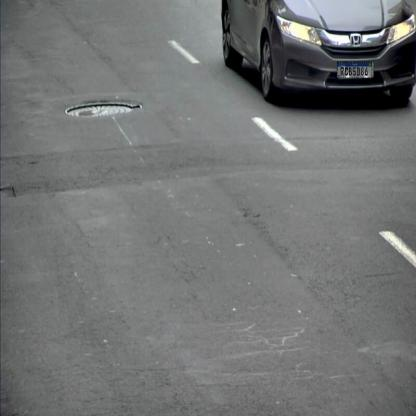PlacaM: (337, 62, 372, 78)
